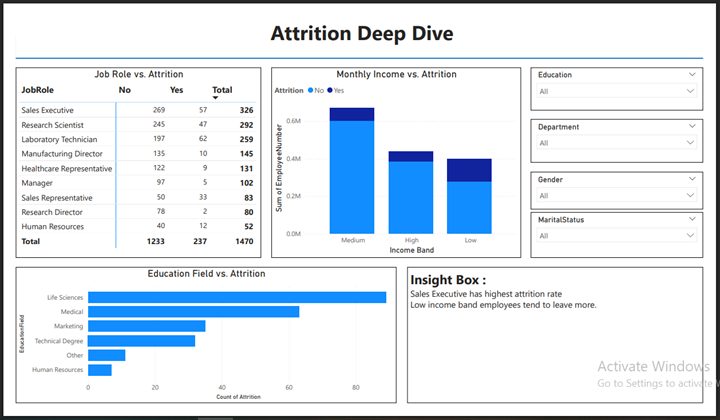

This screenshot's page, from the dashboard's own definition file:
{"tool":"powerbi","page":{"name":"Attrition Deep Dive","canvas":[1280,720],"ordinal":1},"visuals":[{"type":"textbox","box":[9.6,0,1270.7,67.2],"z":0},{"type":"pivotTable","title":"Job Role vs. Attrition","fields":{"Rows":["HR_Attrition.JobRole"],"Columns":["HR_Attrition.Attrition"],"Values":["Count(HR_Attrition.EmployeeNumber)"]},"box":[0,96.1,456.9,354],"z":1000},{"type":"columnChart","title":"Monthly Income vs. Attrition","fields":{"Y":["Sum(HR_Attrition.EmployeeNumber)"],"Series":["HR_Attrition.Attrition"],"Category":["HR_Attrition.Income Band"]},"box":[476.2,96.1,465.2,354],"z":2000},{"type":"clusteredBarChart","title":"Education Field vs. Attrition","fields":{"Category":["HR_Attrition.EducationField"],"Y":["CountNonNull(HR_Attrition.Attrition)"]},"box":[0,466.6,709.4,253.9],"z":3000},{"type":"slicer","fields":{"Values":["HR_Attrition.Department"]},"box":[959.2,192.1,321.1,81],"z":4000},{"type":"slicer","fields":{"Values":["HR_Attrition.Gender"]},"box":[959.2,289.5,321.1,70],"z":5000},{"type":"slicer","fields":{"Values":["HR_Attrition.Education"]},"box":[959.2,96.1,321.1,79.6],"z":6000},{"type":"slicer","fields":{"Values":["HR_Attrition.MaritalStatus"]},"box":[959.2,365,321.1,85.1],"z":7000},{"type":"textbox","box":[728.6,466.6,551.6,253.9],"z":7001},{"type":"shape","box":[0,61.7,1280.3,34.3],"z":7002}]}

Visuals, with their boxes on the page's 1280x720 design canvas (x1, y1, x2, y2). These are canvas units, not pixel positions in the 720x420 screenshot, which may show the page scaled, cropped or inside an application window:
textbox: (x1=10, y1=0, x2=1280, y2=67)
"Job Role vs. Attrition" pivotTable: (x1=0, y1=96, x2=457, y2=450)
"Monthly Income vs. Attrition" columnChart: (x1=476, y1=96, x2=941, y2=450)
"Education Field vs. Attrition" clusteredBarChart: (x1=0, y1=467, x2=709, y2=720)
slicer - HR_Attrition.Department: (x1=959, y1=192, x2=1280, y2=273)
slicer - HR_Attrition.Gender: (x1=959, y1=290, x2=1280, y2=360)
slicer - HR_Attrition.Education: (x1=959, y1=96, x2=1280, y2=176)
slicer - HR_Attrition.MaritalStatus: (x1=959, y1=365, x2=1280, y2=450)
textbox: (x1=729, y1=467, x2=1280, y2=720)
shape: (x1=0, y1=62, x2=1280, y2=96)
